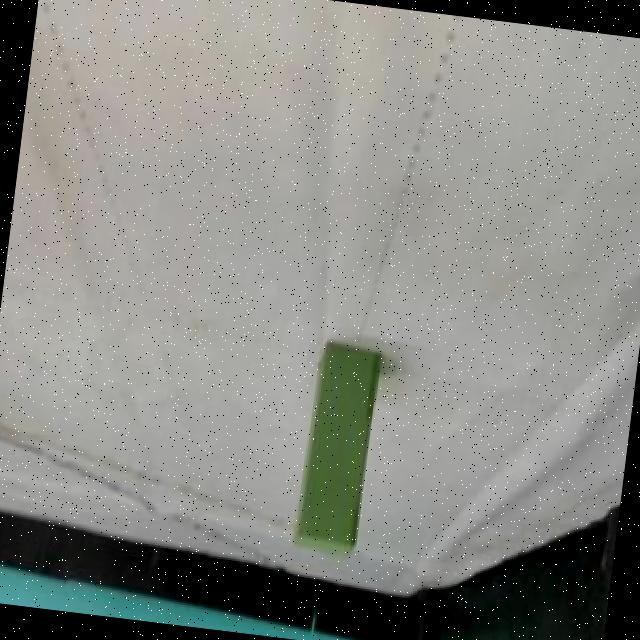greenbox: (282, 334, 382, 561)
